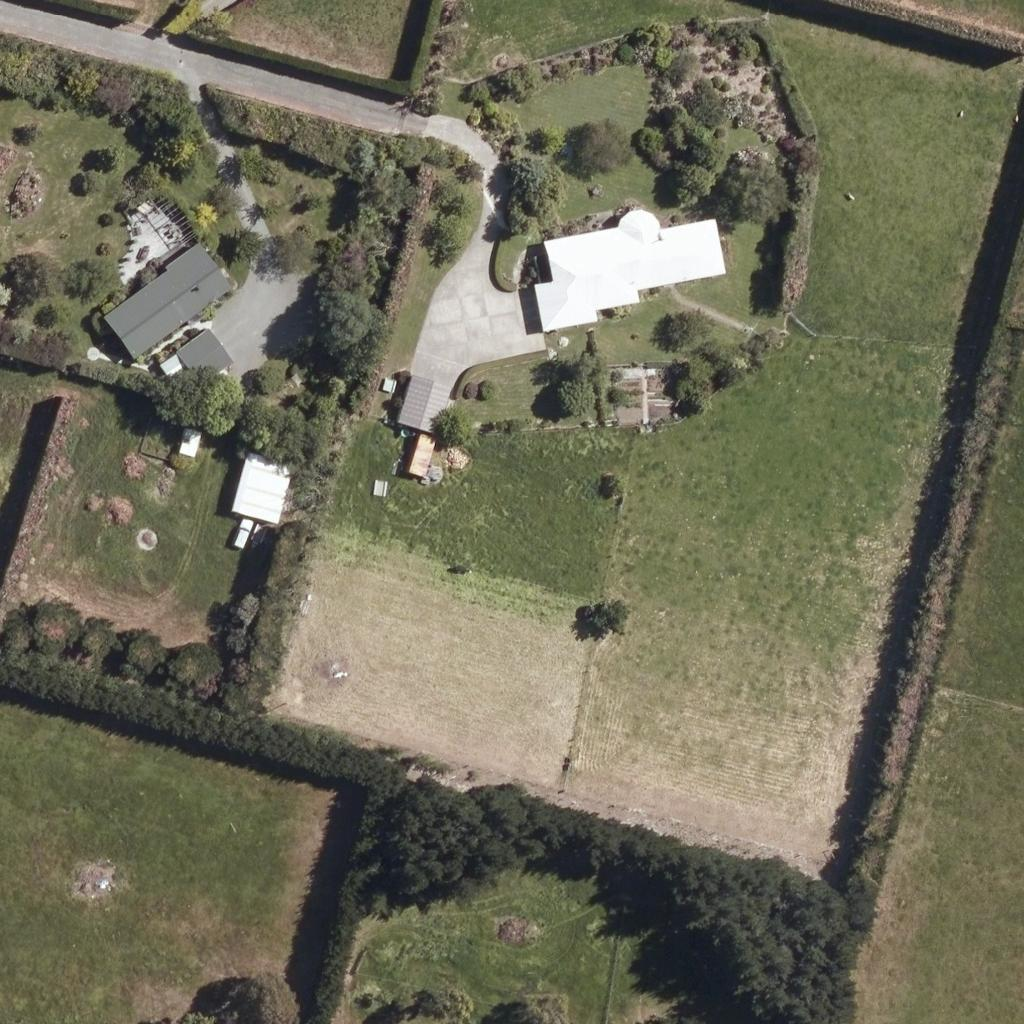car: (224, 517, 258, 551)
